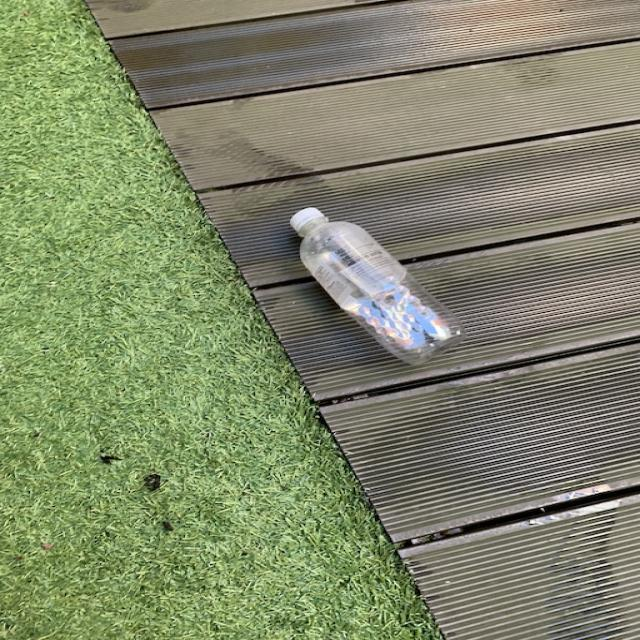Waste: (290, 208, 465, 364)
